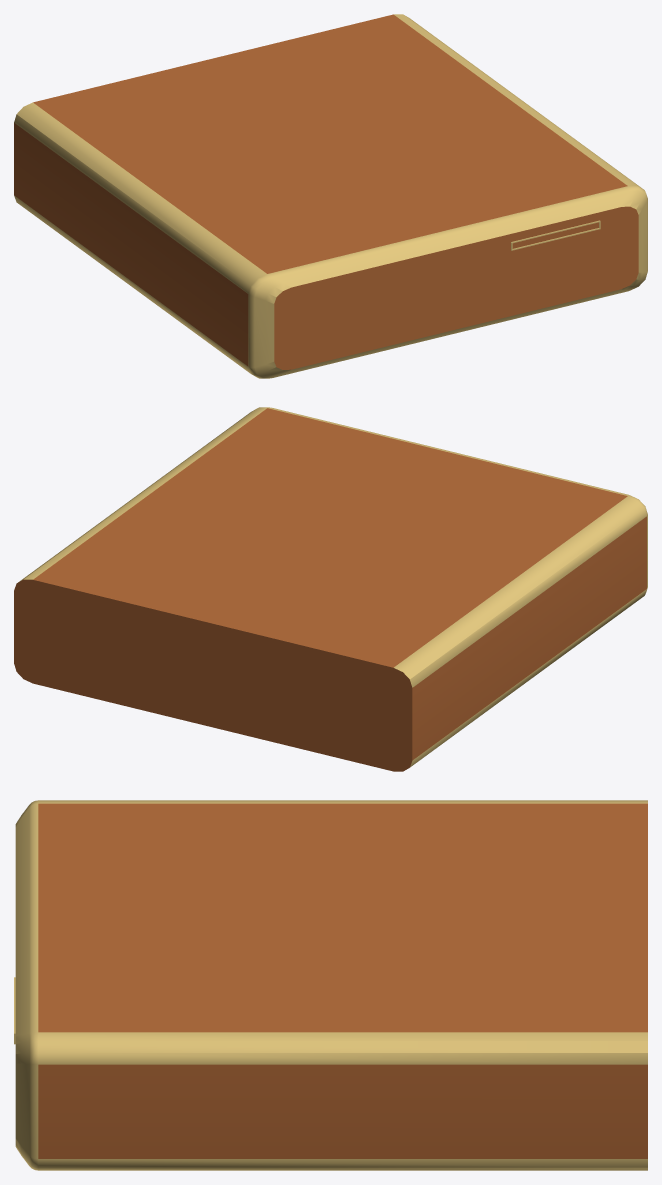
File: CPU.fbx
3 views of the same model, one above another, from view 1: azimuth 30°, elevation 25°; view 2: azimuth 150°, elevation 25°; view 3: azimuth 270°, elevation 25° (orthographic). The views are drawn at different scales.
Visible parts, largest first — view 1: CPU; view 2: CPU; view 3: CPU.
Boxes of the visible parts, x1,y1,x2,y2 form: CPU: (14, 14, 647, 378); CPU: (14, 407, 647, 771); CPU: (14, 800, 647, 1170).
Bounding box in the file's own units: 3.67 × 0.9141 × 3.89.
